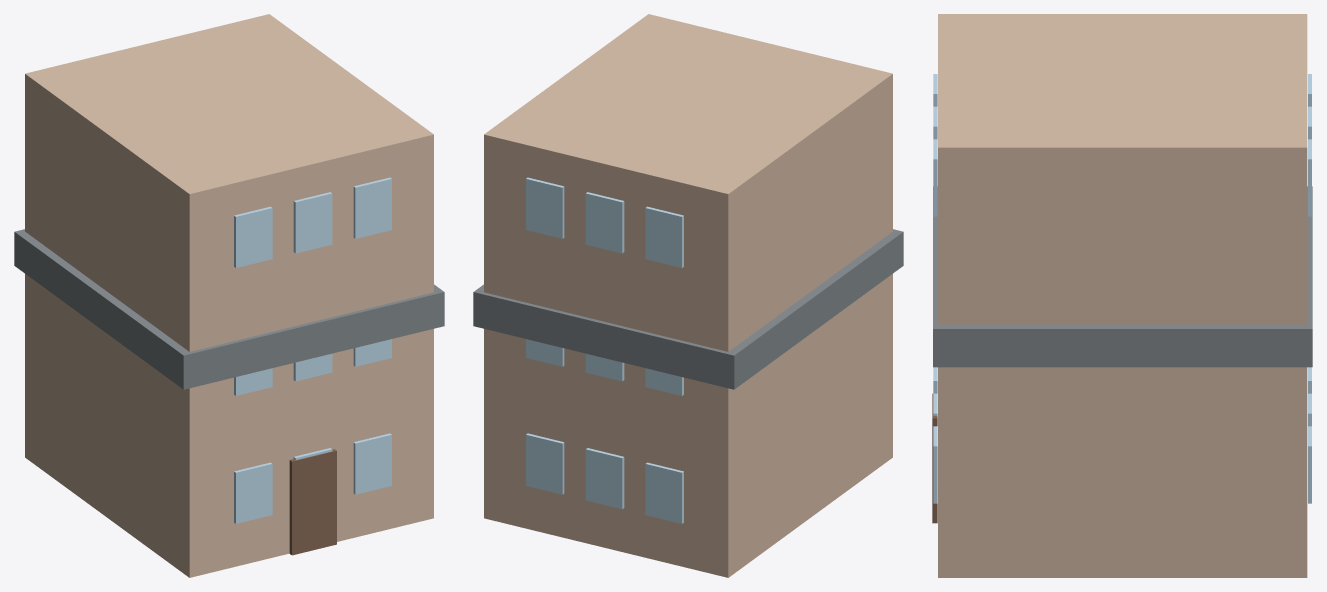
Rendered from building_1001.glb.
3 renders of one model, left to right at view 1: azimuth 30°, elevation 25°; view 2: azimuth 150°, elevation 25°; view 3: azimuth 270°, elevation 25°, orthographic. The views are drawn at different scales.
Parts seen in each view (by area): view 1: building_1001; view 2: building_1001; view 3: building_1001.
Part boxes in pixels (x1=…): building_1001: x1=14, y1=14, x2=444, y2=577; building_1001: x1=473, y1=14, x2=903, y2=577; building_1001: x1=932, y1=14, x2=1312, y2=577.
Size of the model in its own units: 6.4 by 9 by 7.21.
